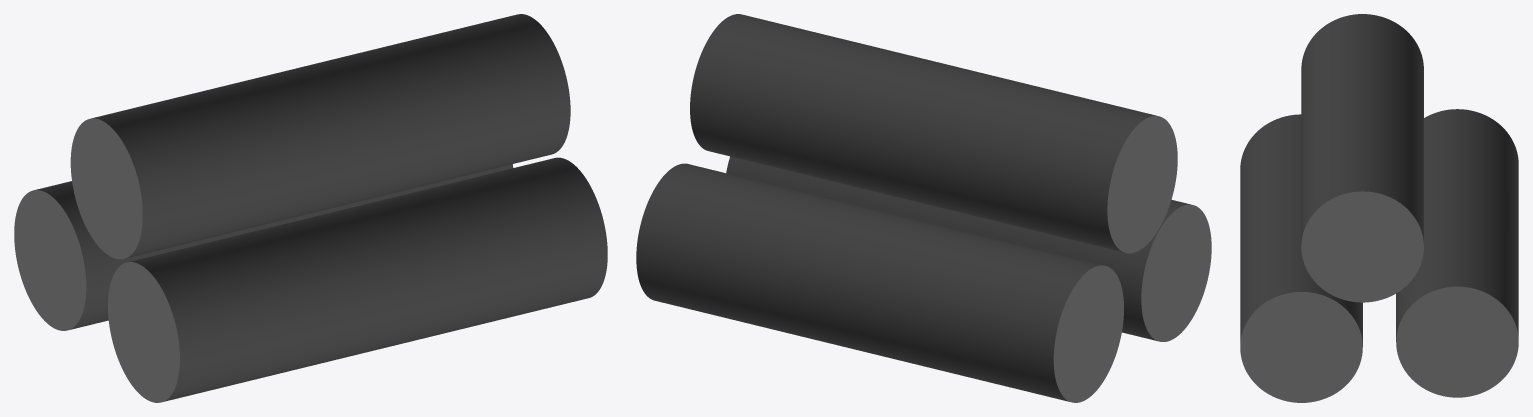
3 views of the same model, side by side, from view 1: azimuth 30°, elevation 25°; view 2: azimuth 150°, elevation 25°; view 3: azimuth 270°, elevation 25° (orthographic). The views are drawn at different scales.
Parts seen in each view (by area): view 1: nodes[8], nodes[4], nodes[6]; view 2: nodes[6], nodes[8], nodes[4]; view 3: nodes[8], nodes[6], nodes[4].
Part boxes in pixels (x1=…): nodes[8]: x1=70, y1=14, x2=570, y2=259; nodes[4]: x1=108, y1=157, x2=607, y2=402; nodes[6]: x1=14, y1=164, x2=513, y2=330; nodes[6]: x1=636, y1=163, x2=1123, y2=402; nodes[8]: x1=690, y1=14, x2=1177, y2=253; nodes[4]: x1=726, y1=156, x2=1211, y2=341; nodes[8]: x1=1301, y1=14, x2=1423, y2=302; nodes[6]: x1=1396, y1=109, x2=1518, y2=397; nodes[4]: x1=1240, y1=114, x2=1362, y2=402.
Size of the model in its own units: 0.1943 by 0.1073 by 0.1283.
1 material, 1 textured.
